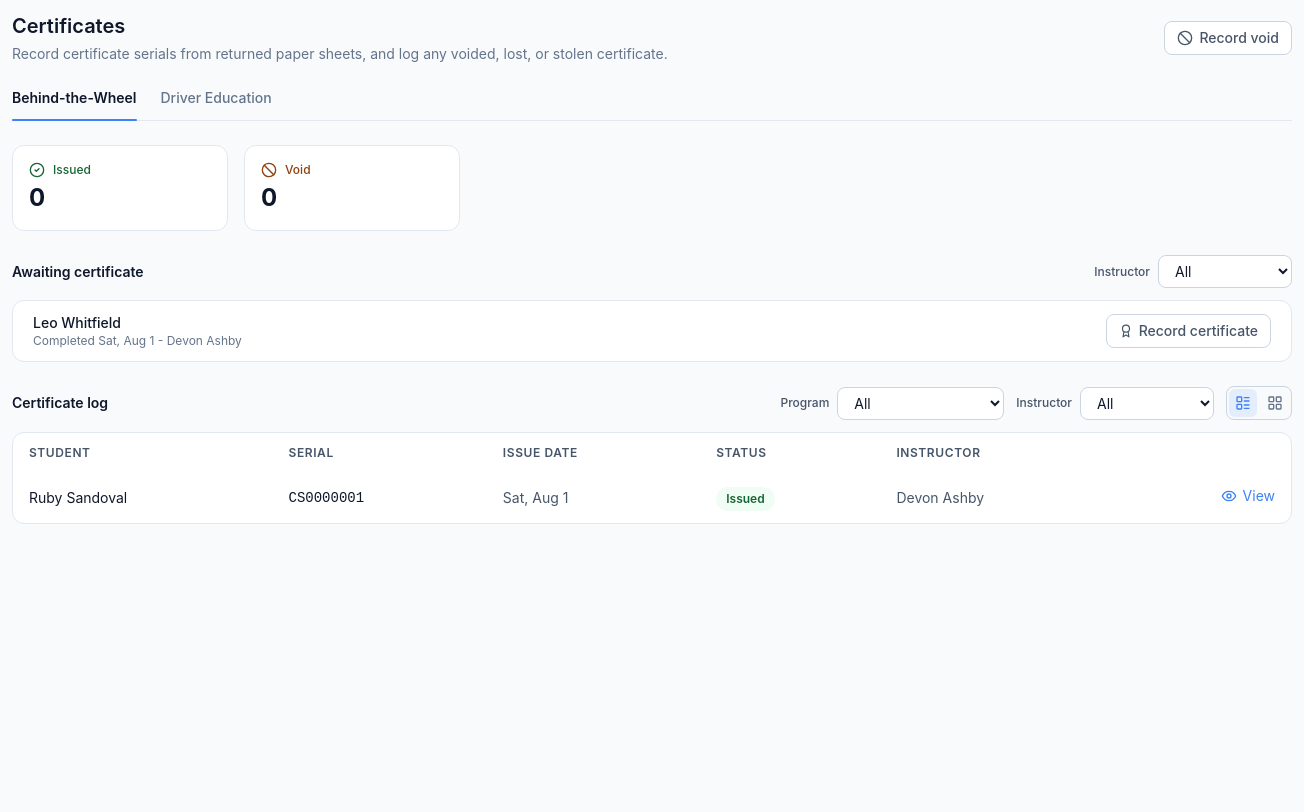
Scenario: Certificates - issued log view toggle › defaults to table view and switches to cards on toggle, leaving the worklist format untouched
This screenshot has width=1304, height=812.
Expected: the text "Ruby Sandoval" is shown, [13,473,272,523]
Expected: the table is shown, [13,433,1291,523]
Click the button named "card view": (1275, 403) [1261,389,1289,417]
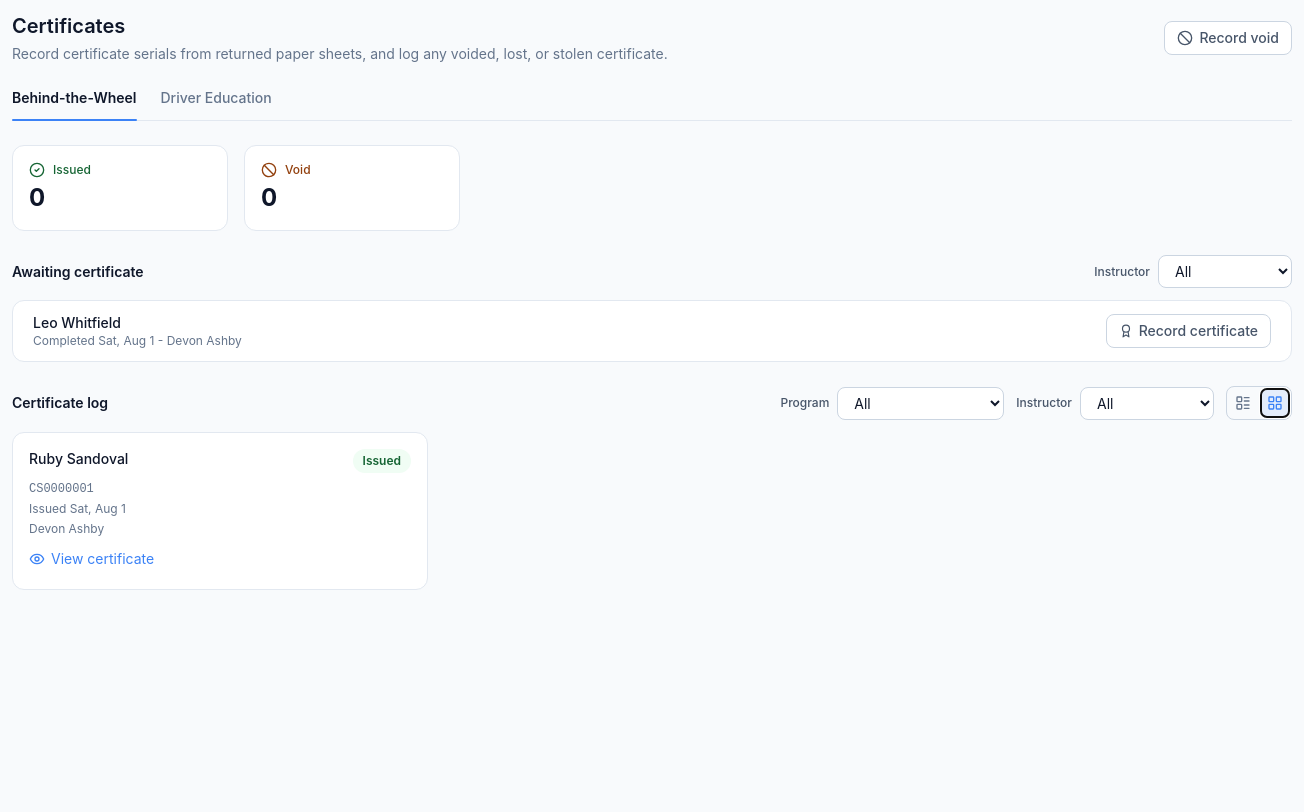
Expected: the text "Ruby Sandoval" is shown, [29,449,128,469]
Expected: the table is gone
